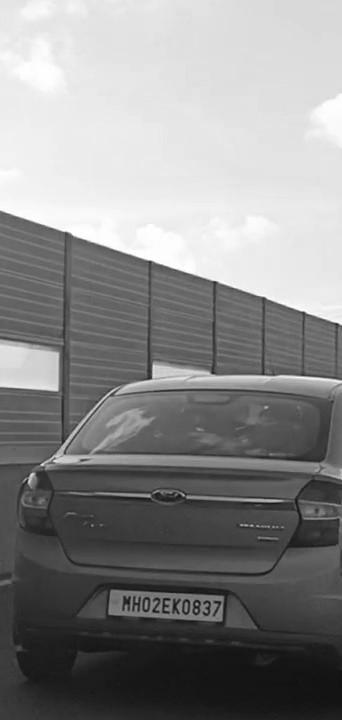number_plate: (112, 592, 226, 622)
